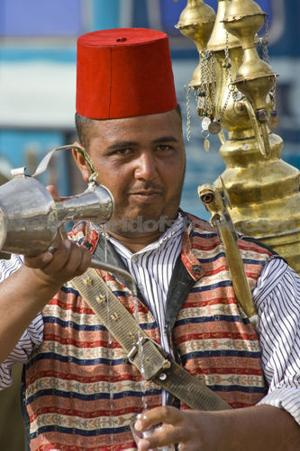person: (2, 30, 300, 450)
